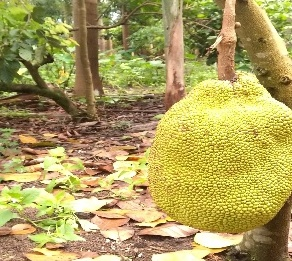Mit: (153, 72, 289, 227)
